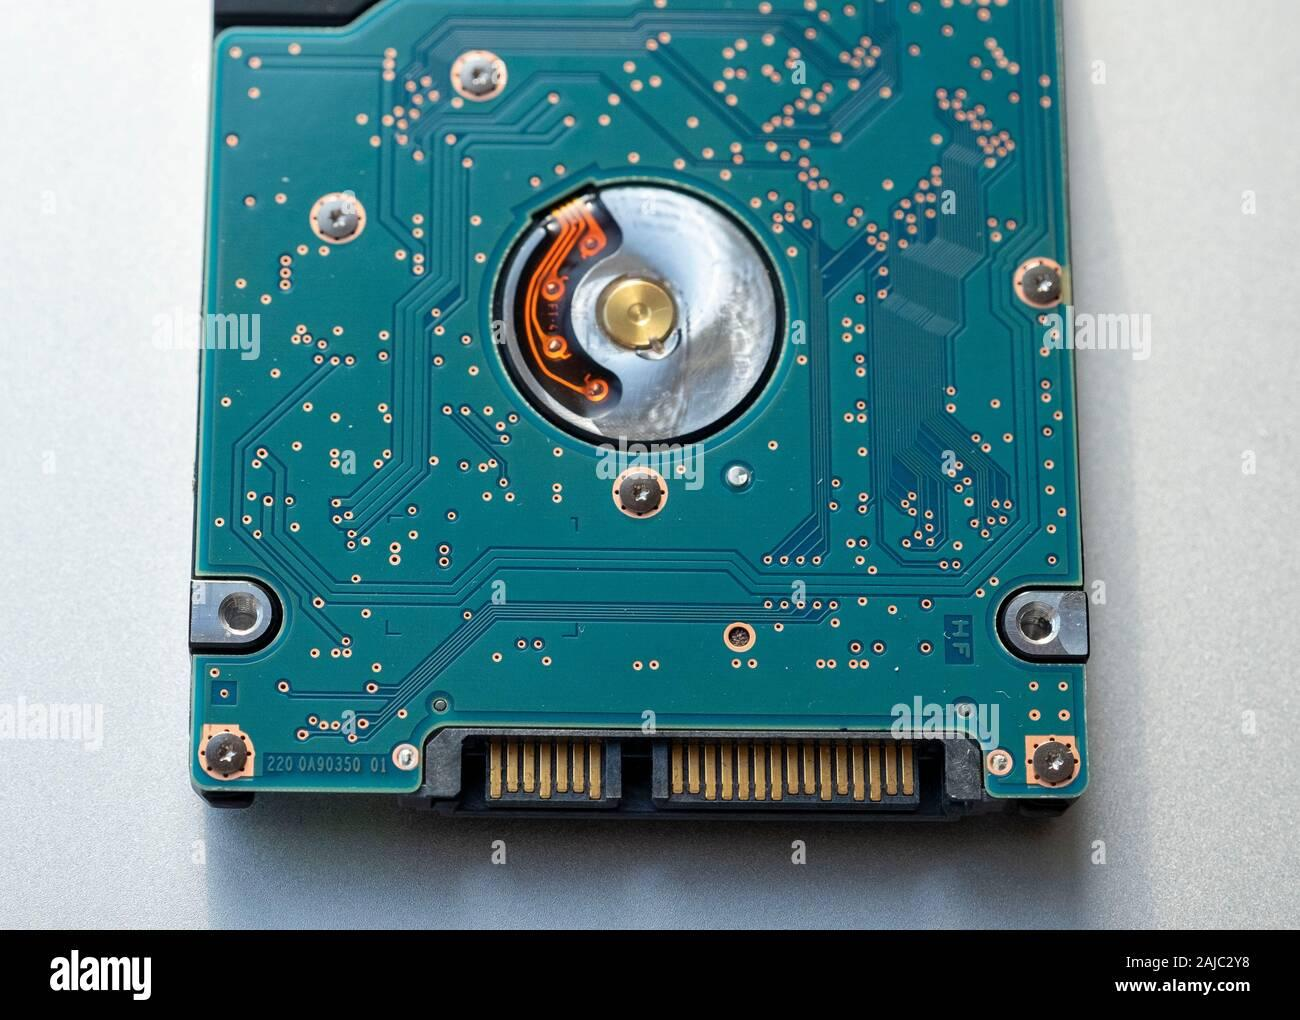internal HDD: (181, 0, 1100, 832)
